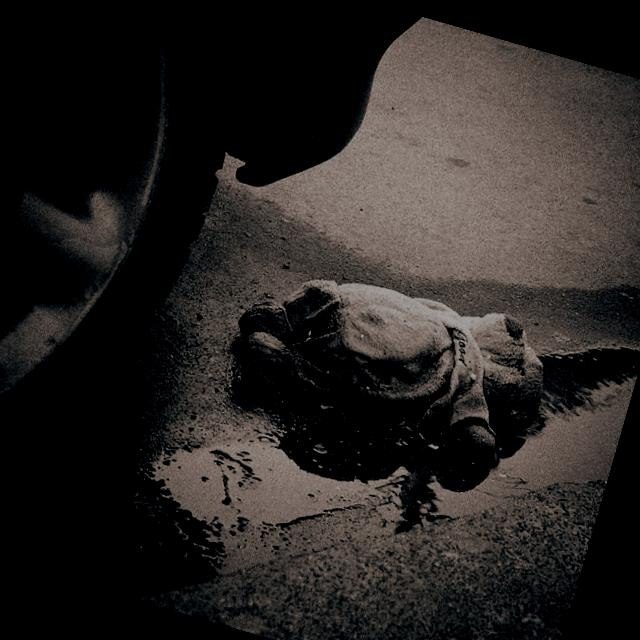Vehicle: (0, 0, 421, 583)
